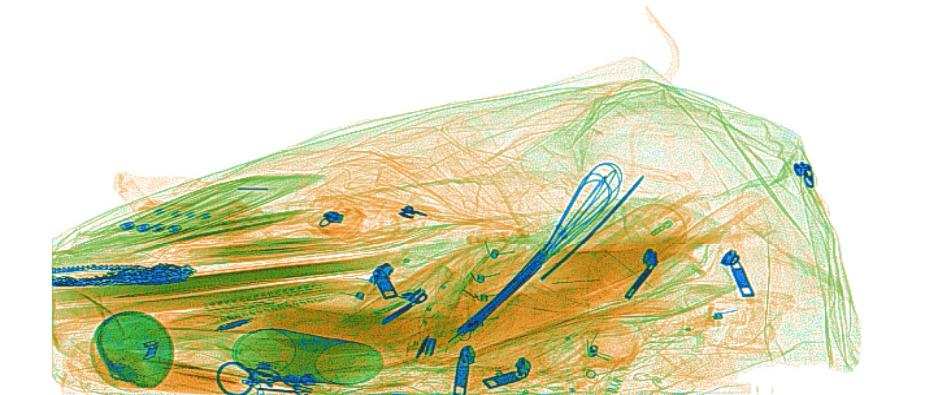plasticBottleWithaNozzle: (536, 192, 707, 307)
